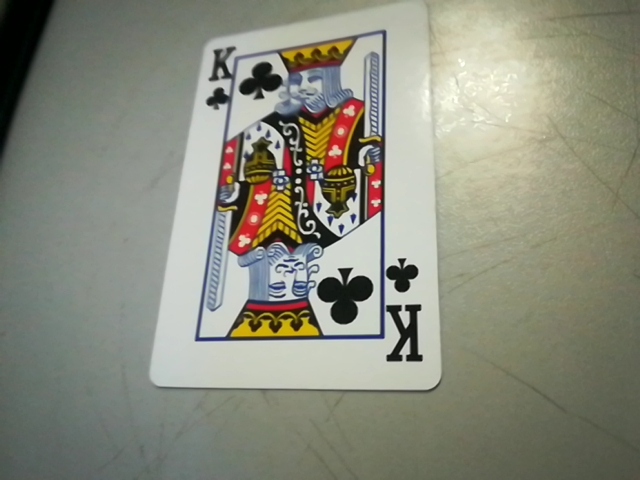mh k: (377, 257, 436, 374), (192, 43, 237, 111)
